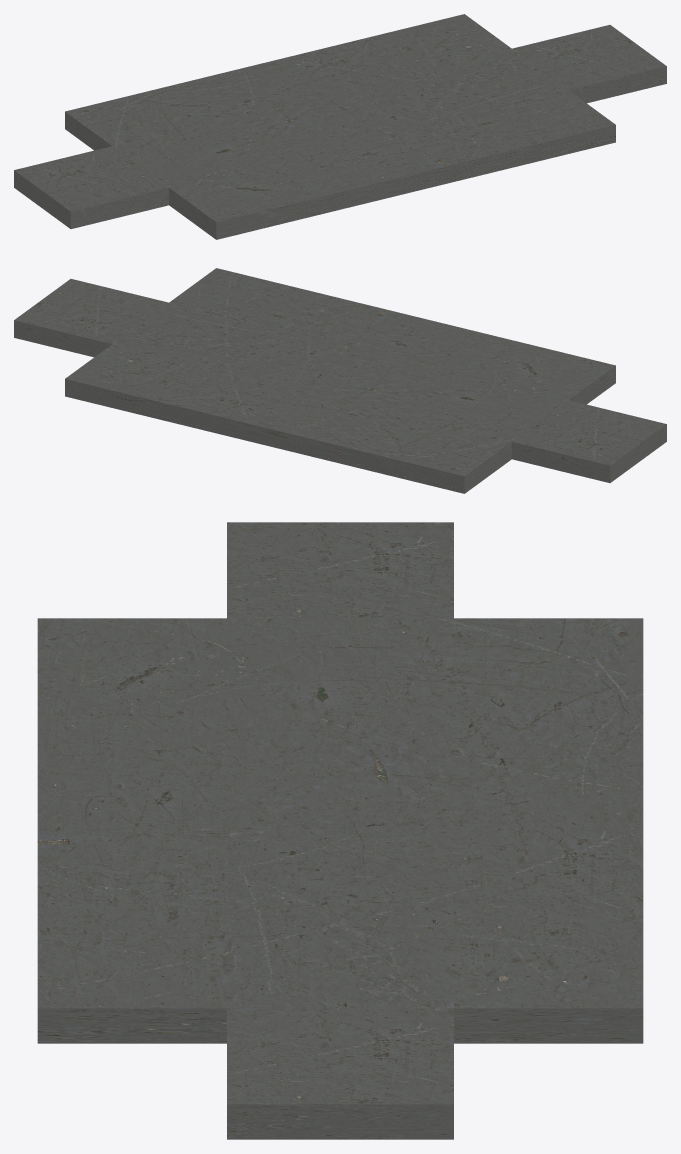
Rendered from floor.glb.
3 renders of one model, top to bottom at view 1: azimuth 30°, elevation 25°; view 2: azimuth 150°, elevation 25°; view 3: azimuth 270°, elevation 25°, orthographic. The views are drawn at different scales.
Parts seen in each view (by area): view 1: floor extra 1; view 2: floor extra 1; view 3: floor extra 1.
Boxes of the visible parts, x1,y1,x2,y2 form: floor extra 1: (14,14,666,239); floor extra 1: (14,268,666,493); floor extra 1: (37,522,643,1139).
Size of the model in its own units: 782 by 22 by 344.
Materials: 1 (1 with a texture image).
